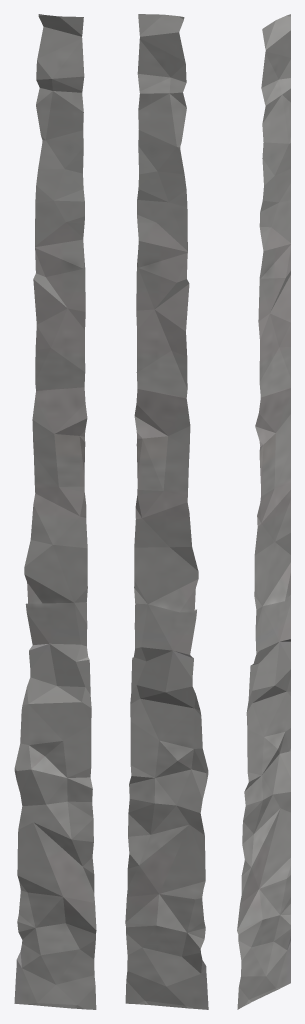
3 views of the same model, side by side, from view 1: azimuth 30°, elevation 25°; view 2: azimuth 210°, elevation 25°; view 3: azimuth 270°, elevation 25° (orthographic).
Bounding box in the file's own units: 0.049 × 0.8374 × 0.0417.
1 material, 1 textured.
